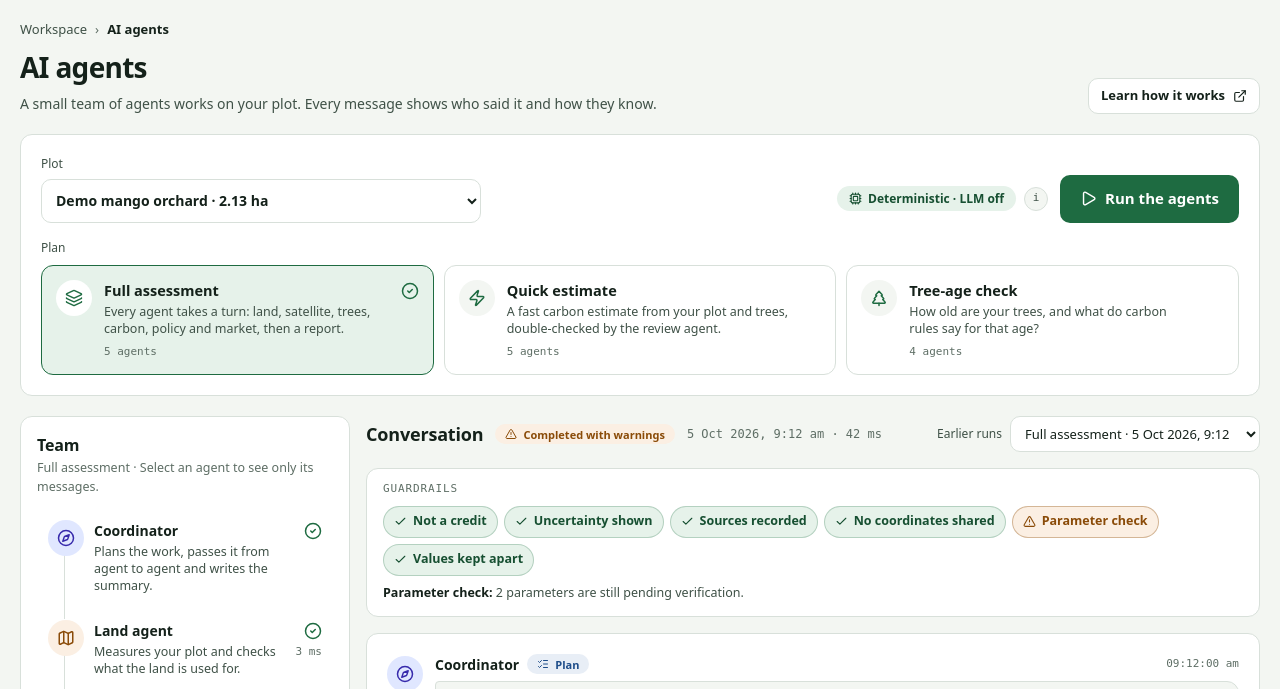
AgentsPage › lets people open an earlier run
Select "Full assessment · 4 Oct 2026, 10:00 am" in the dropdown labelled "Earlier runs". click: (1135, 434)
box: [1010,416,1260,452]
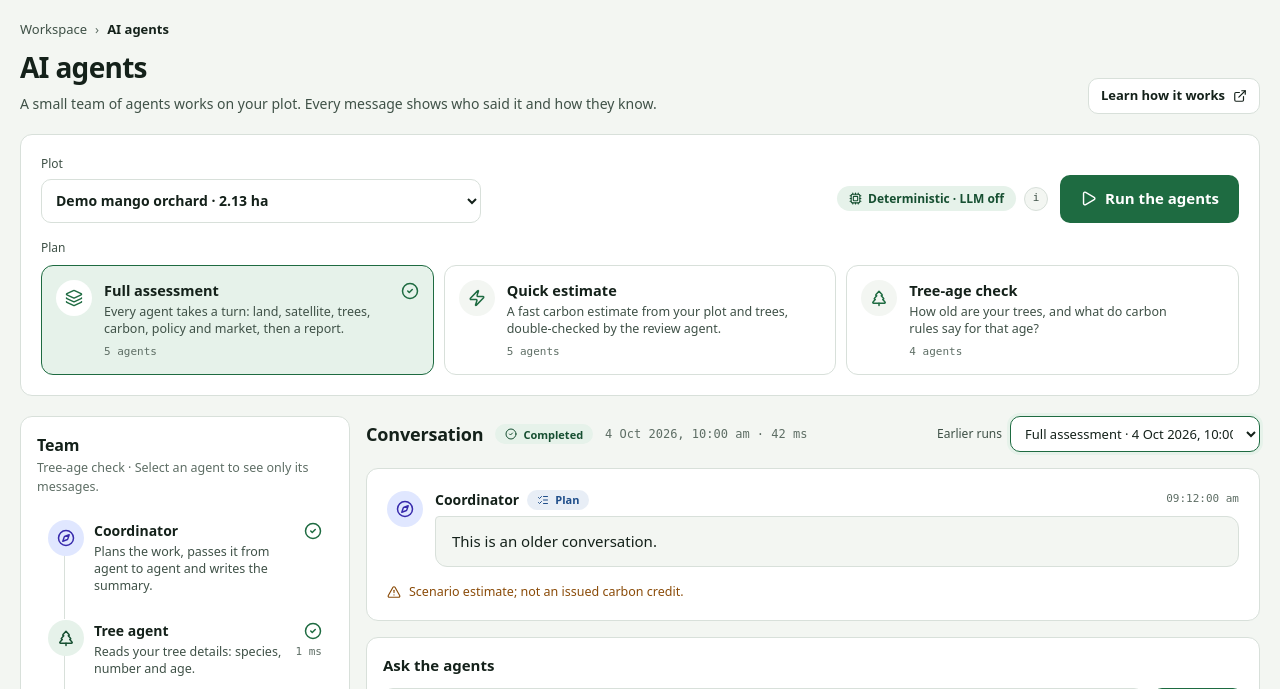
Check: the text "This is an older conversation." is shown, box [452,531,657,551]
